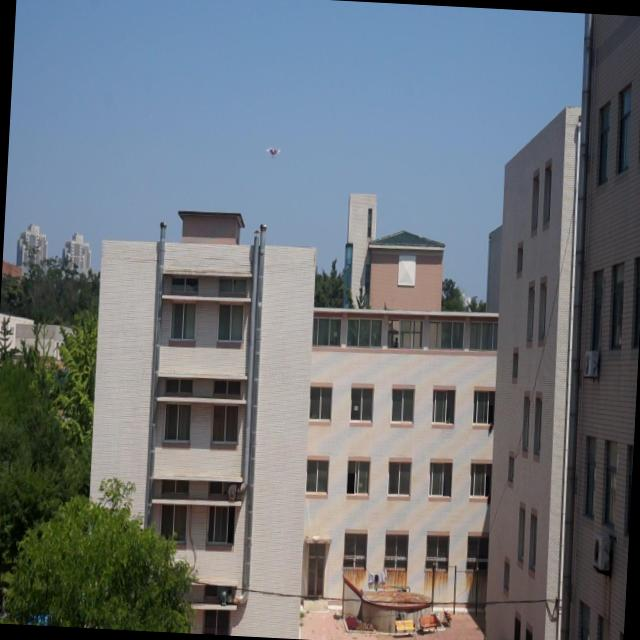drone: (266, 146, 281, 163)
